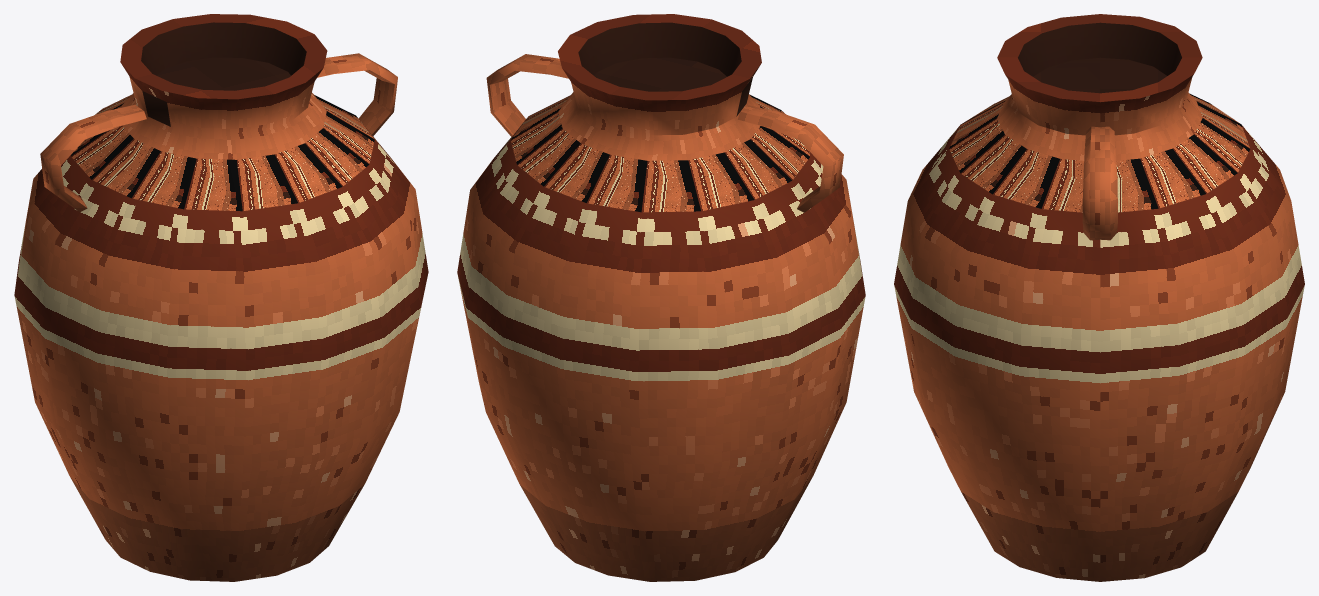
File: p_pot.glb
3 views of the same model, side by side, from view 1: azimuth 30°, elevation 25°; view 2: azimuth 150°, elevation 25°; view 3: azimuth 270°, elevation 25° (orthographic).
Visible parts, largest first — view 1: p_pot_lod0; view 2: p_pot_lod0; view 3: p_pot_lod0.
Part boxes in pixels (x1,y1,x2,y2): p_pot_lod0: (14,14,428,581); p_pot_lod0: (457,14,865,581); p_pot_lod0: (894,14,1304,581).
Size of what is drawn, in the model's own units: 0.907 by 1.14 by 0.893.
Materials: 1 (1 with a texture image).
